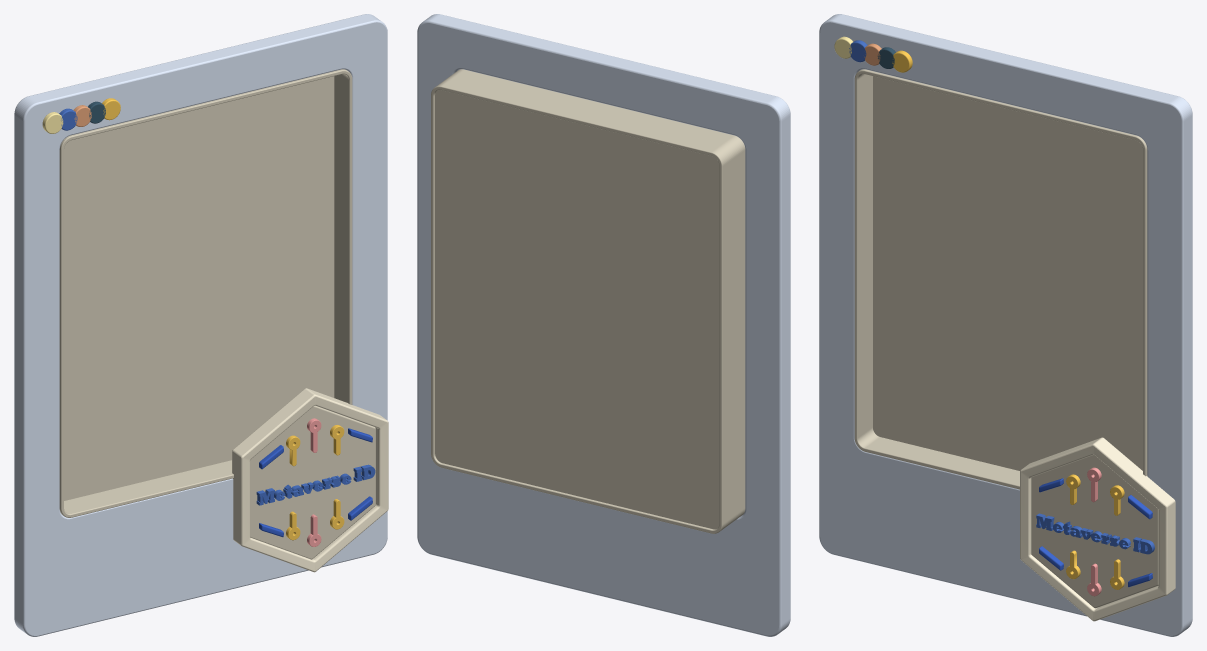
The model's file is card5.fbx.
3 views of the same model, side by side, from view 1: azimuth 30°, elevation 25°; view 2: azimuth 150°, elevation 25°; view 3: azimuth 330°, elevation 25° (orthographic).
Parts seen in each view (by area): view 1: back_001, base_001, NFT_base_1, NFT_outline_1, Curve, Cap_1, Cylinder_1, Extrude_1; view 2: back_001, base_001; view 3: back_001, base_001, NFT_base_1, NFT_outline_1, Curve, Cap_1, Cylinder_1, Extrude_1.
Boxes of the visible parts, x1,y1,x2,y2 form: back_001: [59, 69, 352, 517]; base_001: [14, 14, 387, 636]; NFT_base_1: [250, 405, 375, 559]; NFT_outline_1: [232, 388, 388, 572]; Curve: [286, 418, 344, 546]; Cap_1: [259, 467, 375, 505]; Cylinder_1: [259, 428, 372, 537]; Extrude_1: [256, 464, 372, 505]; back_001: [431, 69, 745, 533]; base_001: [417, 14, 790, 636]; back_001: [854, 69, 1147, 489]; base_001: [819, 14, 1192, 636]; NFT_base_1: [1031, 455, 1158, 608]; NFT_outline_1: [1020, 437, 1175, 621]; Curve: [1066, 467, 1124, 596]; Cap_1: [1036, 515, 1151, 554]; Cylinder_1: [1039, 478, 1152, 587]; Extrude_1: [1036, 513, 1154, 552].
Size of the model in its own units: 250 by 350 by 49.67.
